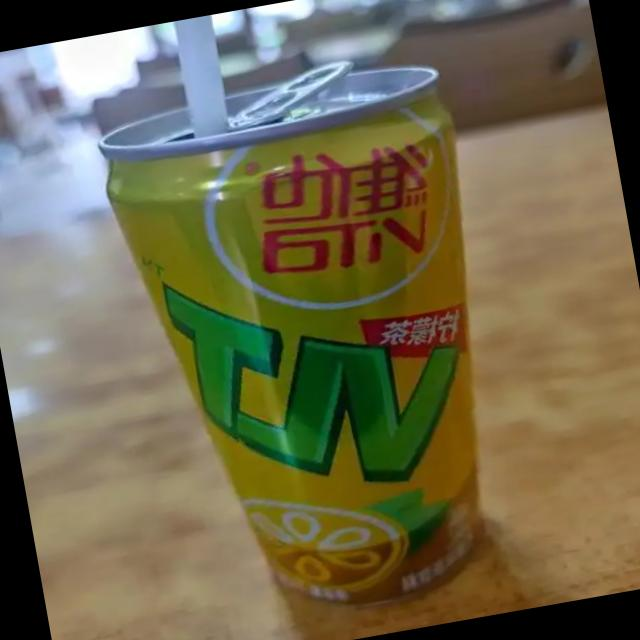can: (88, 42, 537, 639)
